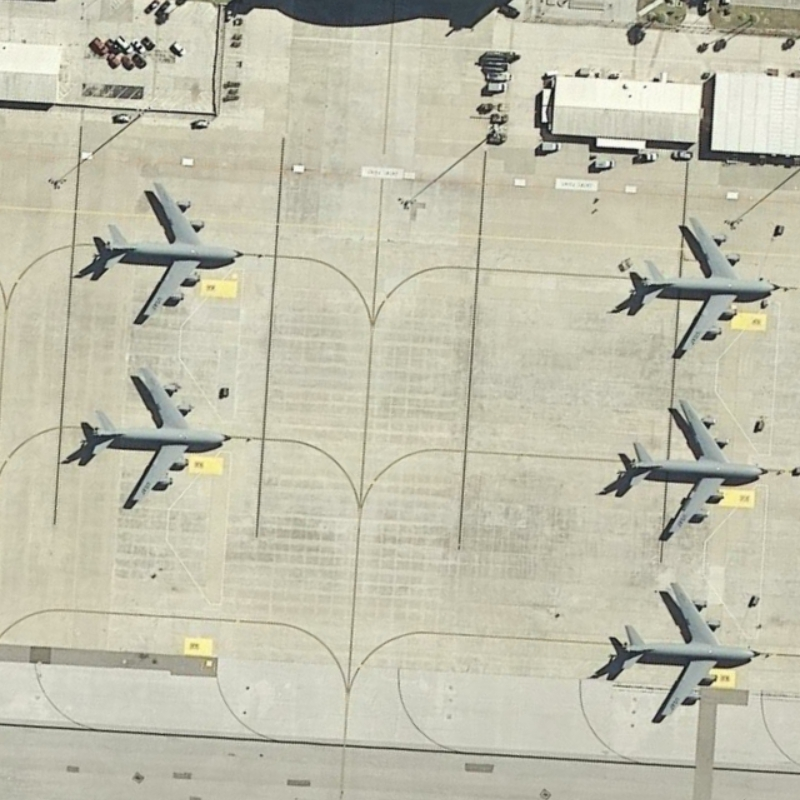A14: (616, 577, 765, 722), (633, 214, 784, 356), (89, 363, 236, 508), (623, 395, 772, 538), (99, 179, 246, 321)
